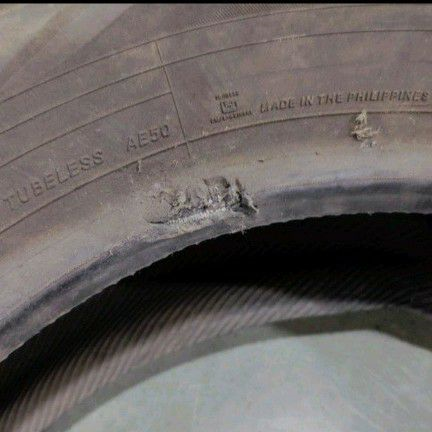bead_damage: (142, 172, 262, 231)
cut: (347, 103, 389, 150)
